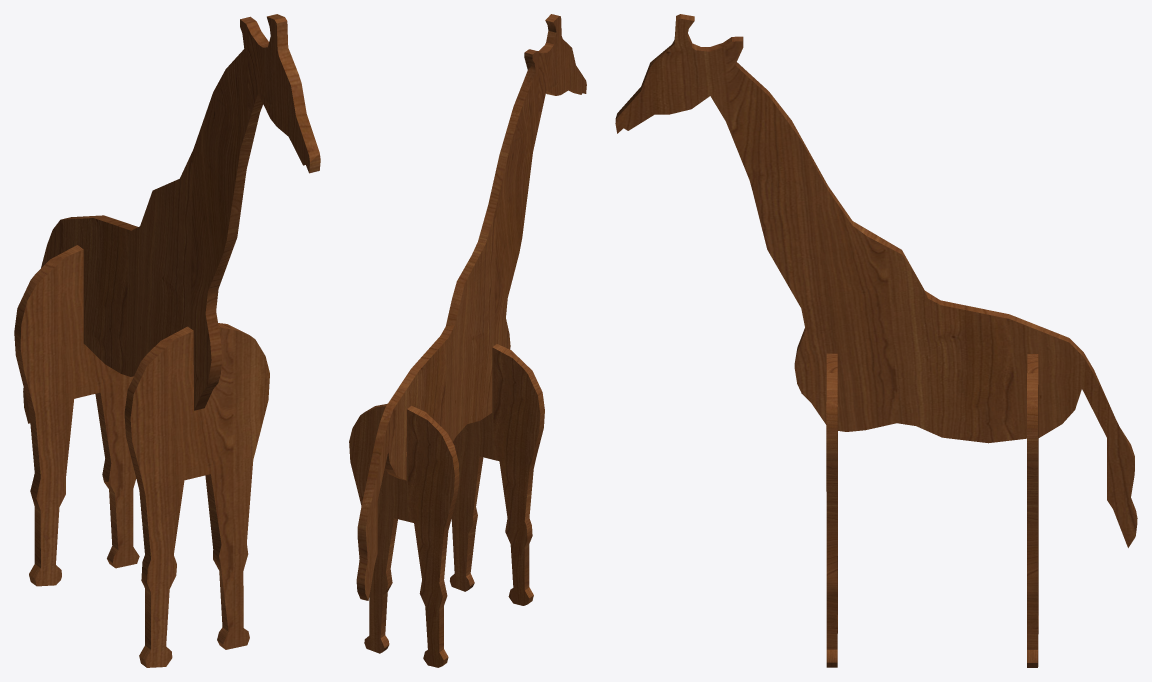
File: Giraffe.FBX
The picture shows the model from 3 angles, left to right: view 1: azimuth 30°, elevation 25°; view 2: azimuth 150°, elevation 25°; view 3: azimuth 270°, elevation 25°; orthographic projection. The views are drawn at different scales.
Visible parts, largest first — view 1: Giraffe; view 2: Giraffe; view 3: Giraffe.
Part boxes in pixels (bbox=[...]): Giraffe: bbox=[14, 14, 320, 667]; Giraffe: bbox=[349, 14, 586, 667]; Giraffe: bbox=[615, 14, 1137, 667].
Size of the model in its own units: 7.11 by 33.95 by 25.42.
